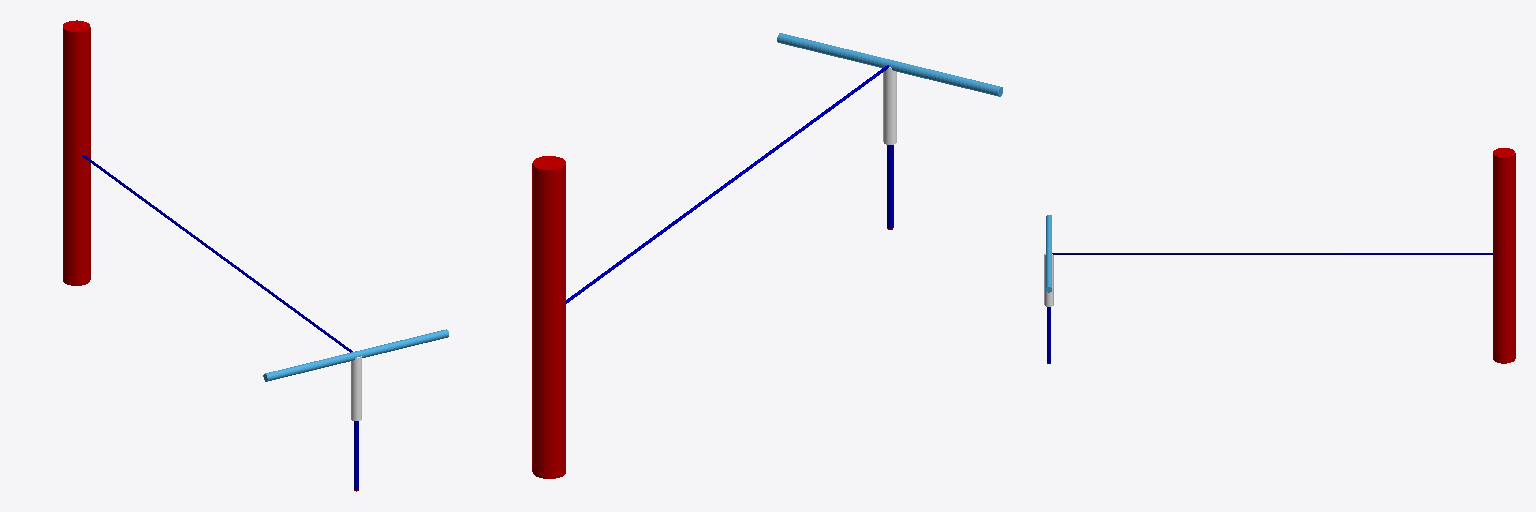
URDF robot description (1dhopper):
<?xml version="1.0"?>
<robot name="1dhopper">
   <material name="blue">
    <color rgba="0 0 0.8 1"/>
  </material>

  <material name="red">
   <color rgba="0.8 0 0 1"/>
 </material>

  <material name="white">
    <color rgba="1 1 1 0.5"/>
  </material>
  <link name="base_link">
    <visual>
      <geometry>
        <cylinder length="0.5" radius="0.04"/>
      </geometry>
      <material name="white"/>
    </visual>
    <collision>
       <geometry>
         <cylinder length="0.5" radius="0.04"/>
       </geometry>
     </collision>
     <inertial>
     <mass value="0.15"/>
     <inertia ixx="0.4" ixy="0.0" ixz="0.0" iyy="0.4" iyz="0.0" izz="0.2"/>
   </inertial>

  </link>

 <link name="balance_beam">
    <visual>
      <geometry>
        <cylinder length="1.5" radius="0.03"/>
      </geometry>
      <origin rpy="0 1.57075 0" xyz="0 0 0"/>
    </visual>
    <collision>
       <geometry>
         <cylinder length="1.5" radius="0.03"/>
       </geometry>
       <origin rpy="0 1.57075 0" xyz="0 0 0"/>
     </collision>
     <inertial>
     <mass value="8"/>
     <inertia ixx="0.4" ixy="0.0" ixz="0.0" iyy="0.4" iyz="0.0" izz="0.2"/>
     <origin rpy="0 1.57075 0" xyz="0 0 0"/>
   </inertial>
  </link>

<joint name="base_to_beam" type="revolute">
    <axis xyz="0 1 0"/>
    <limit effort="1000.0" lower="-0.8" upper="0.8" velocity="10"/>
    <parent link="base_link"/>
    <child link="balance_beam"/>
    <origin xyz="0 0 0.25"/>

  </joint>

<link name="leg">
    <visual>
      <geometry>
        <cylinder length="0.6" radius="0.02"/>
      </geometry>
      <material name="blue"/>
      <origin rpy="0 0 0" xyz="0 0 0"/>
    </visual>
    <collision>
       <geometry>
         <cylinder length="0.6" radius="0.02"/>
       </geometry>
       <origin rpy="0 0 0" xyz="0 0 0"/>
     </collision>
     <inertial>
     <mass value="0.45"/>
     <inertia ixx="0.4" ixy="0.0" ixz="0.0" iyy="0.4" iyz="0.0" izz="0.2"/>
     <origin rpy="0 0 0" xyz="0 0 -0.4"/>
   </inertial>
  </link>

<joint name="foot_joint" type="prismatic">
    <axis xyz="0 0 1"/>
    <limit effort="1000.0" lower="0" upper="0.4" velocity="10"/>
    <dynamics damping="10.5" friction="0.8"/>
    <parent link="base_link"/>
    <child link="leg"/>
    <origin xyz="0 0 -0.5"/>

  </joint>

  <link name="toe">
    <visual>
      <geometry>
        <sphere radius="0.02"/>
      </geometry>
      <material name="red"/>
    </visual>
    <collision>
      <geometry>
        <sphere radius="0.02"/>
      </geometry>
     </collision>
     <inertial>
     <mass value="0.45"/>
     <mass value="0.01"/>
     <inertia ixx="1.0" ixy="0.0" ixz="0.0" iyy="1.0" iyz="0.0" izz="1.0"/>
   </inertial>

  </link>

  <joint name="leg_toe" type="fixed">
      <parent link="leg"/>
      <child link="toe"/>
      <origin xyz="0 0 -0.3"/>
    </joint>

<link name="L1">
    <visual>
      <geometry>
        <cylinder length="4" radius="0.01"/>
      </geometry>
      <material name="blue"/>
      <origin rpy="1.57075 0 0" xyz="0 0 0"/>
    </visual>
  </link>

 <joint name="L1_body" type="fixed">
      <parent link="balance_beam"/>
      <child link="L1"/>
      <origin xyz="0 2 0"/>
    </joint>

<link name="base">
    <visual>
      <geometry>
        <cylinder length="2" radius="0.1"/>
      </geometry>
      <material name="red"/>
      <origin rpy="0 0 1.57075" xyz="0 0 0"/>
    </visual>
<collision>
       <geometry>
         <cylinder length="2" radius="0.1"/>
       </geometry>
     </collision>
     <inertial>
     <mass value="1000"/>
     <inertia ixx="0.4" ixy="0.0" ixz="0.0" iyy="0.4" iyz="0.0" izz="0.2"/>
   </inertial>
  </link>

 <joint name="base_jiont" type="continuous">
      <parent link="L1"/>
      <child link="base"/>
       <axis xyz="0 0 1"/>
      <origin xyz="0 2 -0.02"/>
    </joint>

</robot>

--- Facts derived from the render (not from the file) ---
The picture shows the robot from 3 angles, left to right: view 1: azimuth 30°, elevation 25°; view 2: azimuth 150°, elevation 25°; view 3: azimuth 270°, elevation 25°; orthographic projection.
Model 1dhopper with 6 links and 5 joints (1 revolute, 1 continuous, 1 prismatic, 2 fixed), rooted at base_link, posed all joints at 0.
Visible links, largest first — view 1: base, balance_beam, L1, base_link; view 2: base, balance_beam, L1, base_link, leg; view 3: base, L1.
Boxes of the visible links, <box> form: base: <box>63,20,90,285</box>; balance_beam: <box>263,329,448,381</box>; L1: <box>82,155,352,352</box>; base_link: <box>351,356,361,420</box>; base: <box>532,156,565,478</box>; balance_beam: <box>777,33,1002,96</box>; L1: <box>566,65,888,303</box>; base_link: <box>883,66,896,144</box>; leg: <box>887,145,893,228</box>; base: <box>1493,148,1515,363</box>; L1: <box>1052,253,1492,254</box>.
Bounding box of the posed robot: 1.5 × 4.14 × 2.05 m (x, y, z).
Geometry: primitives only (box / cylinder / sphere), no mesh files.